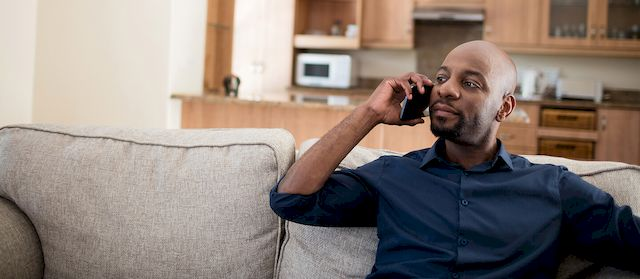phone: (396, 77, 428, 127)
talk: (375, 63, 493, 143)
